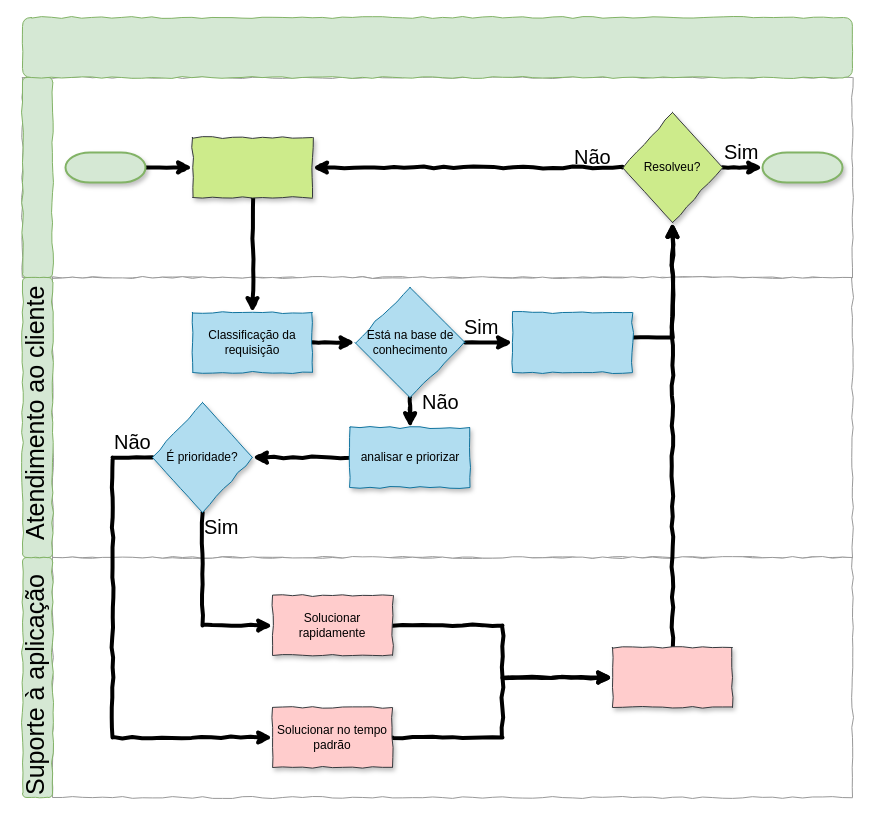
This 870x815 diagram has some shape labels left out. Each missing label, with the centre of its shape:
"Cliente" goes at (37,177).
"Detalhamento da requisição" goes at (253,168).
"envio da resposta de 1º nível" goes at (573,344).
"Fluxograma Para Requisições" goes at (437,47).
"Resposta de 2º nível" goes at (673,678).
